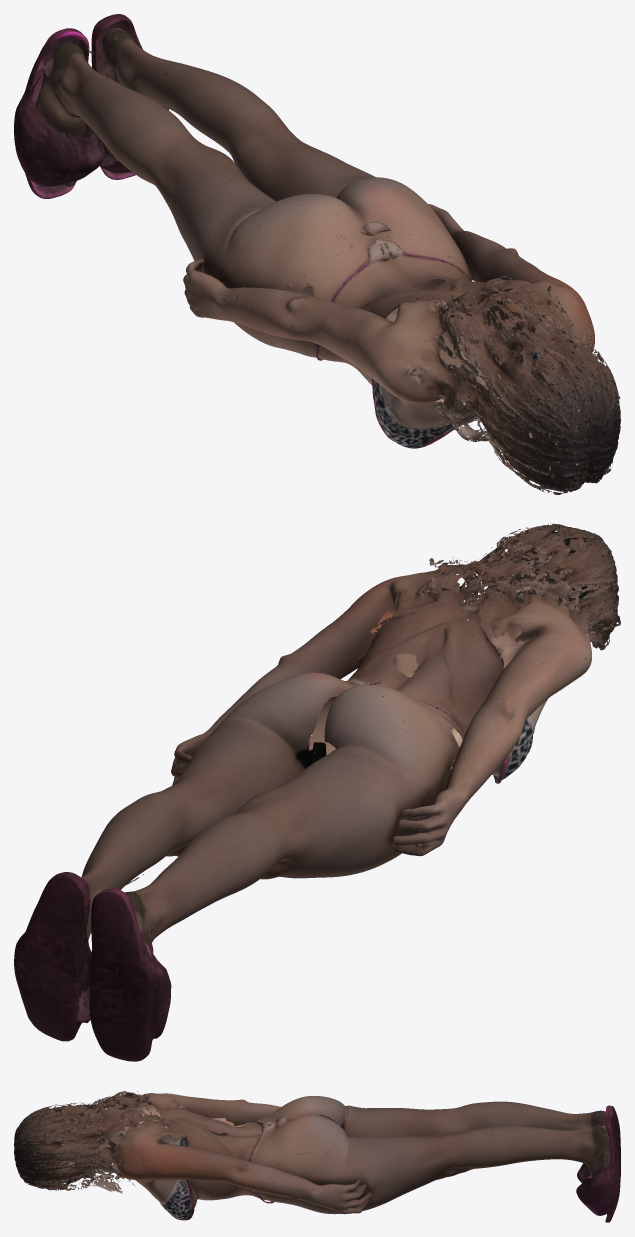
Rendered from trellis_20261120-203304-746854.glb.
3 views of the same model, one above another, from view 1: azimuth 30°, elevation 25°; view 2: azimuth 150°, elevation 25°; view 3: azimuth 270°, elevation 25° (orthographic). The views are drawn at different scales.
Parts seen in each view (by area): view 1: geometry_0; view 2: geometry_0; view 3: geometry_0.
Boxes of the visible parts, box(x1,y1,x2,y2) form: geometry_0: box(14, 14, 620, 494); geometry_0: box(14, 523, 620, 1061); geometry_0: box(14, 1091, 620, 1222).
Size of the model in its own units: 0.3012 by 0.2069 by 0.999.
1 material, 1 textured.
